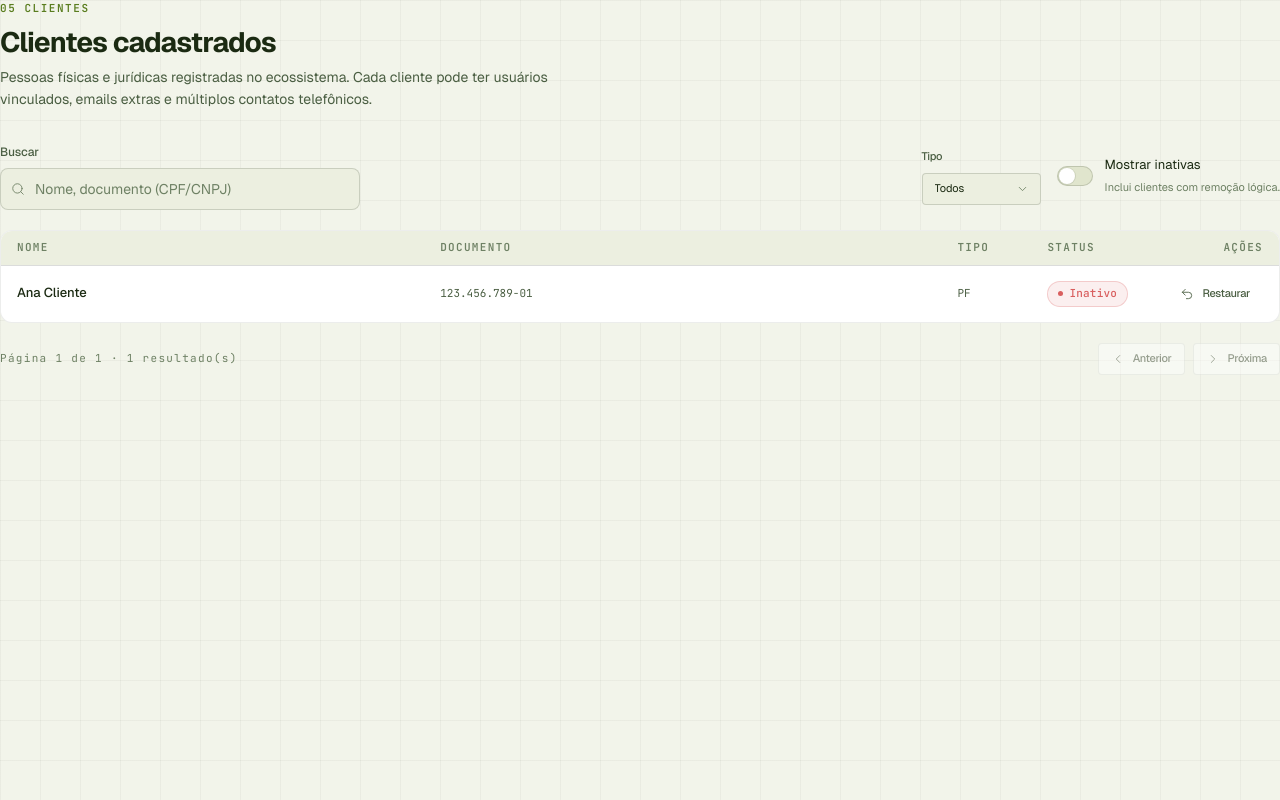
Test case: ClientsListShellPage — restaurar (Issue #76) › confirmação bem-sucedida › envia POST /clients/{id}/restore com id correto, fecha modal, exibe toast verde e refaz listClients
Click the button "Restaurar".
click(1215, 294)  # box [1167,278,1263,310]
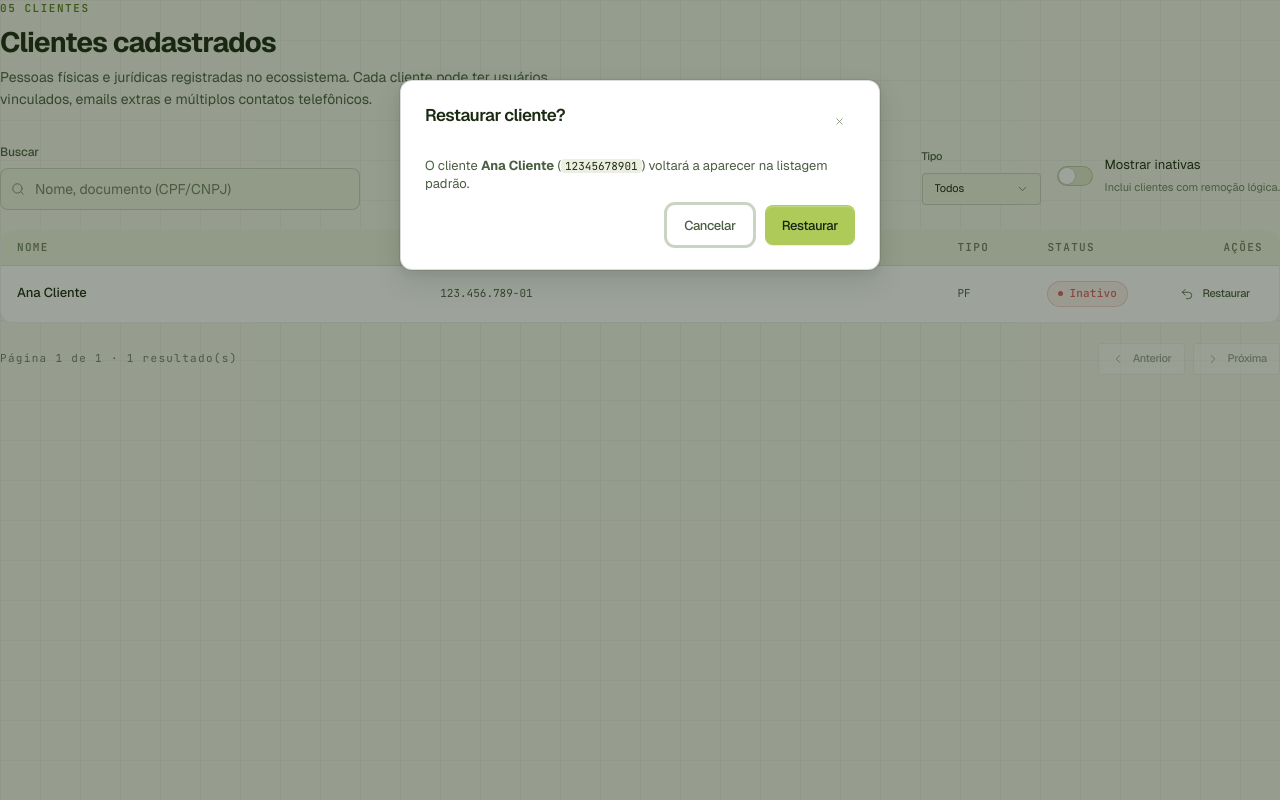
Click the button with test id "restore-client-confirm".
click(810, 225)  # box [765,205,855,245]
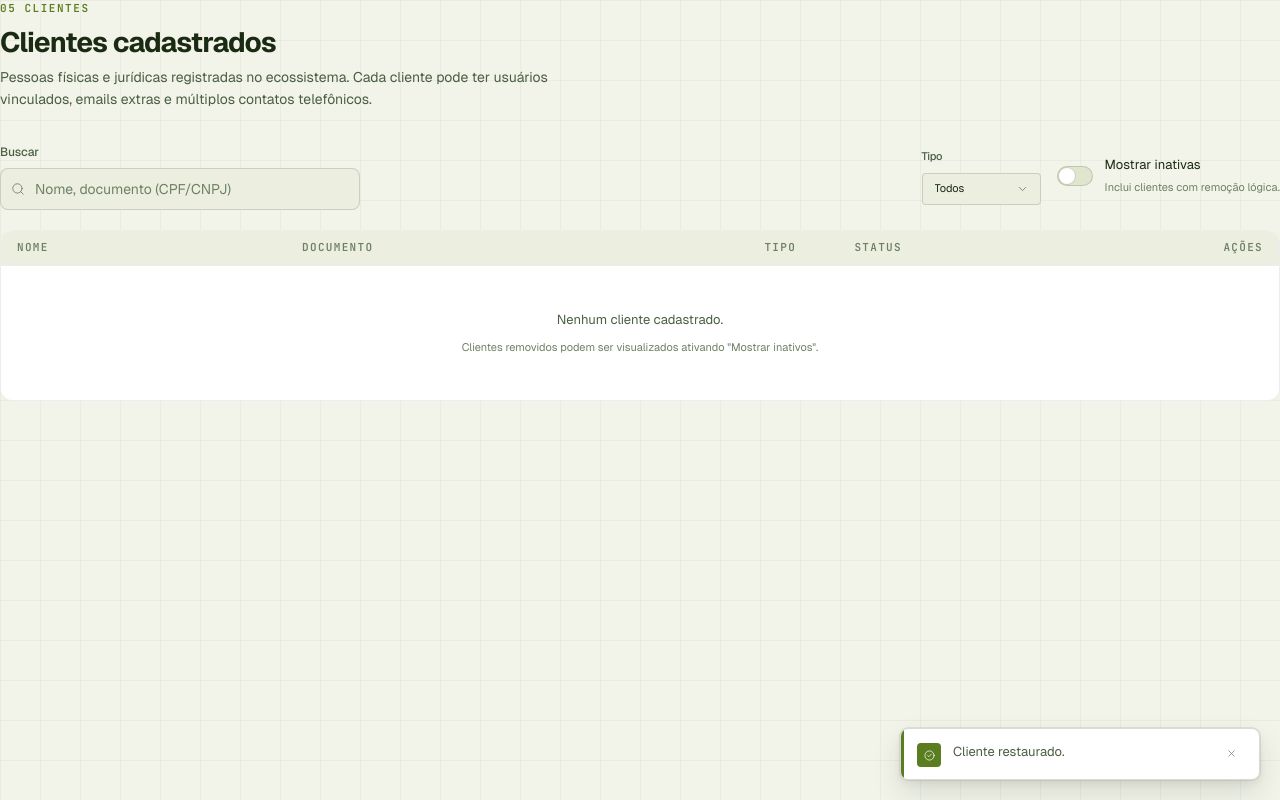
Result: the dialog is gone
Result: the text "Cliente restaurado." is shown at [953,743,1065,760]
